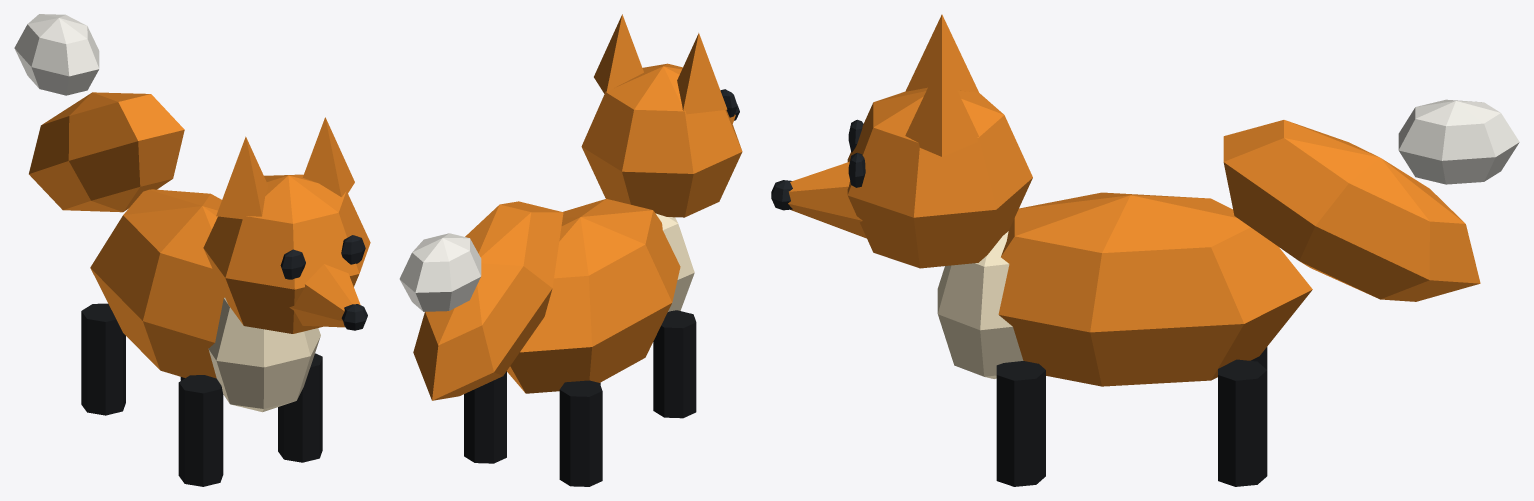
File: fox-lod1.glb
The picture shows the model from 3 angles, left to right: view 1: azimuth 30°, elevation 25°; view 2: azimuth 150°, elevation 25°; view 3: azimuth 270°, elevation 25°; orthographic projection. The views are drawn at different scales.
Visible parts, largest first — view 1: fox; view 2: fox; view 3: fox.
Boxes of the visible parts, x1,y1,x2,y2 form: fox: (14,14,370,486); fox: (399,14,742,486); fox: (771,14,1519,486).
Size of the model in its own units: 0.312 by 0.7 by 1.15.
